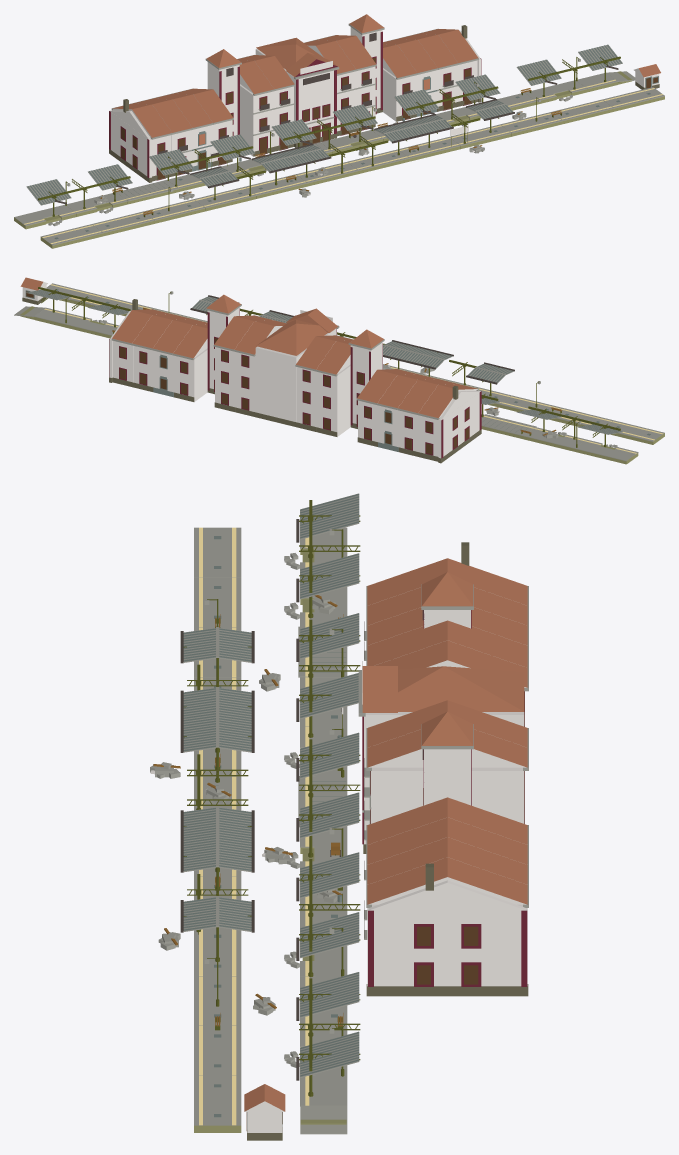
Rendered from SM_EstacionCastellon_v2_LOD0.fbx.
The picture shows the model from 3 angles, top to bottom: view 1: azimuth 30°, elevation 25°; view 2: azimuth 150°, elevation 25°; view 3: azimuth 270°, elevation 25°; orthographic projection. The views are drawn at different scales.
Visible parts, largest first — view 1: SM_bloques.estacion_castellon_v2_LOD0; view 2: SM_bloques.estacion_castellon_v2_LOD0; view 3: SM_bloques.estacion_castellon_v2_LOD0.
Part boxes in pixels (bbox=[...]): SM_bloques.estacion_castellon_v2_LOD0: bbox=[14, 14, 664, 248]; SM_bloques.estacion_castellon_v2_LOD0: bbox=[14, 277, 664, 464]; SM_bloques.estacion_castellon_v2_LOD0: bbox=[150, 493, 528, 1140].
Bounding box in the file's own units: 122 × 18.11 × 32.14.
